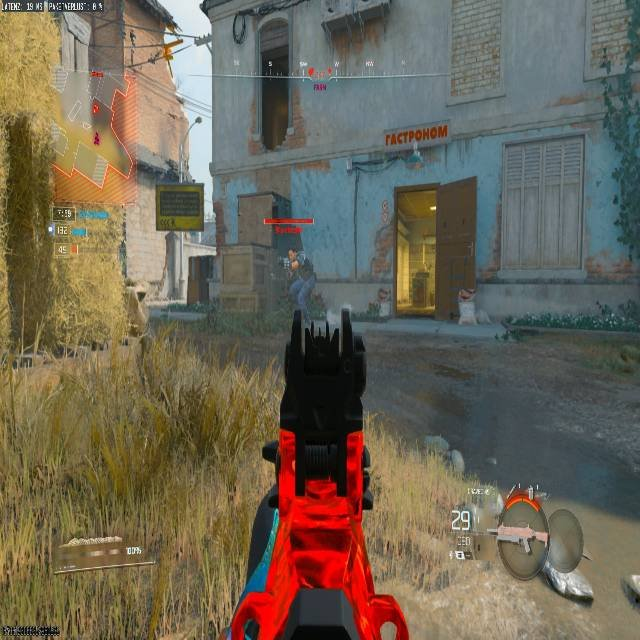head: (285, 245, 299, 261), (288, 248, 297, 258)
player: (283, 248, 323, 319), (287, 248, 298, 278)
